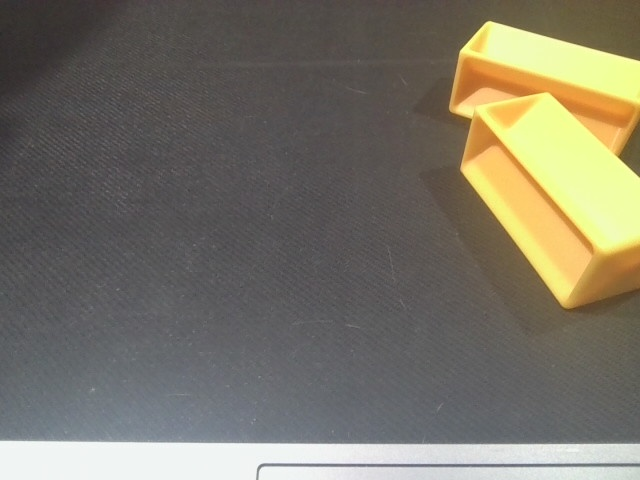YellowSample: (458, 87, 640, 312), (444, 16, 639, 159)
